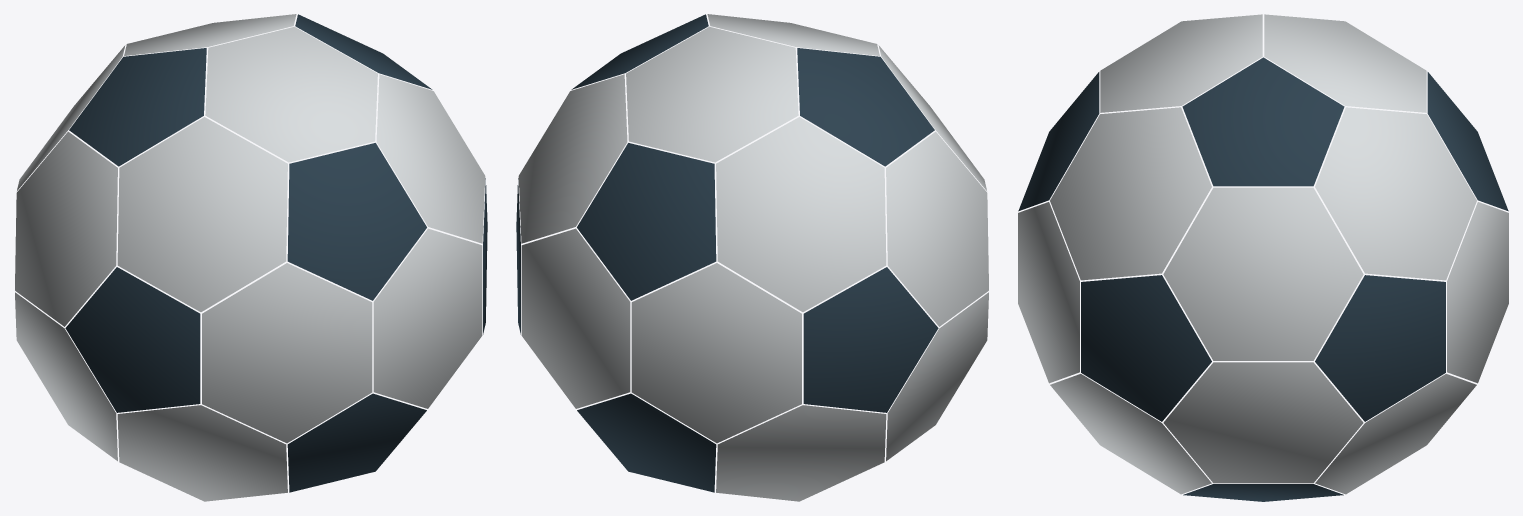
Rendered from football.glb.
3 views of the same model, side by side, from view 1: azimuth 30°, elevation 25°; view 2: azimuth 150°, elevation 25°; view 3: azimuth 270°, elevation 25° (orthographic).
Visible parts, largest first — view 1: Ball; view 2: Ball; view 3: Ball.
Boxes of the visible parts, x1,y1,x2,y2 form: Ball: (15, 14, 487, 501); Ball: (516, 14, 988, 501); Ball: (1018, 14, 1508, 501).
Bounding box in the file's own units: 0.3717 × 0.3717 × 0.3717.
